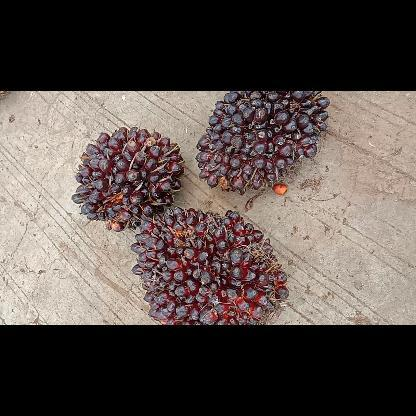TBS mentah: (128, 204, 292, 324), (192, 91, 332, 197), (69, 122, 186, 233)
